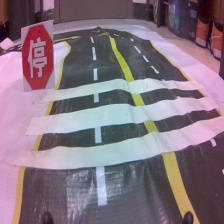stop: (19, 18, 62, 92)
